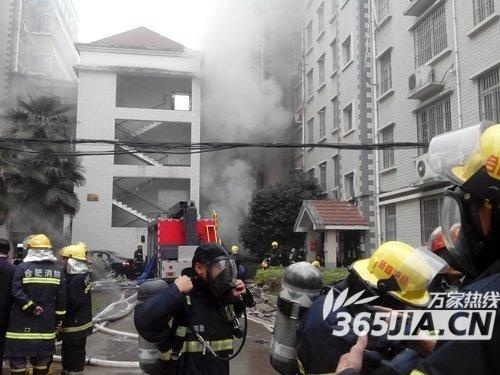fire: (454, 119, 500, 183)
